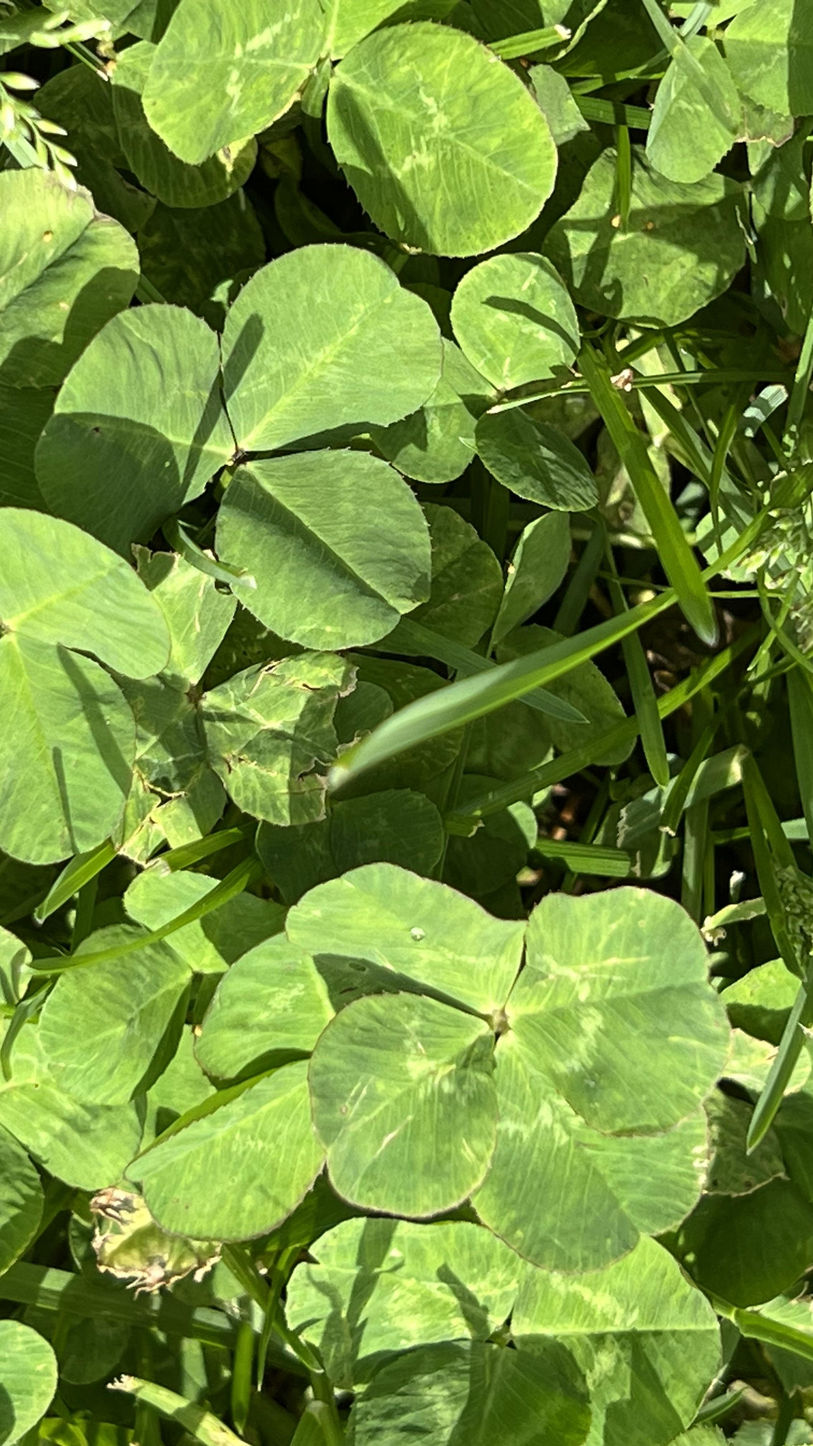4-Leaf-Clovers: (488, 147, 714, 900)
